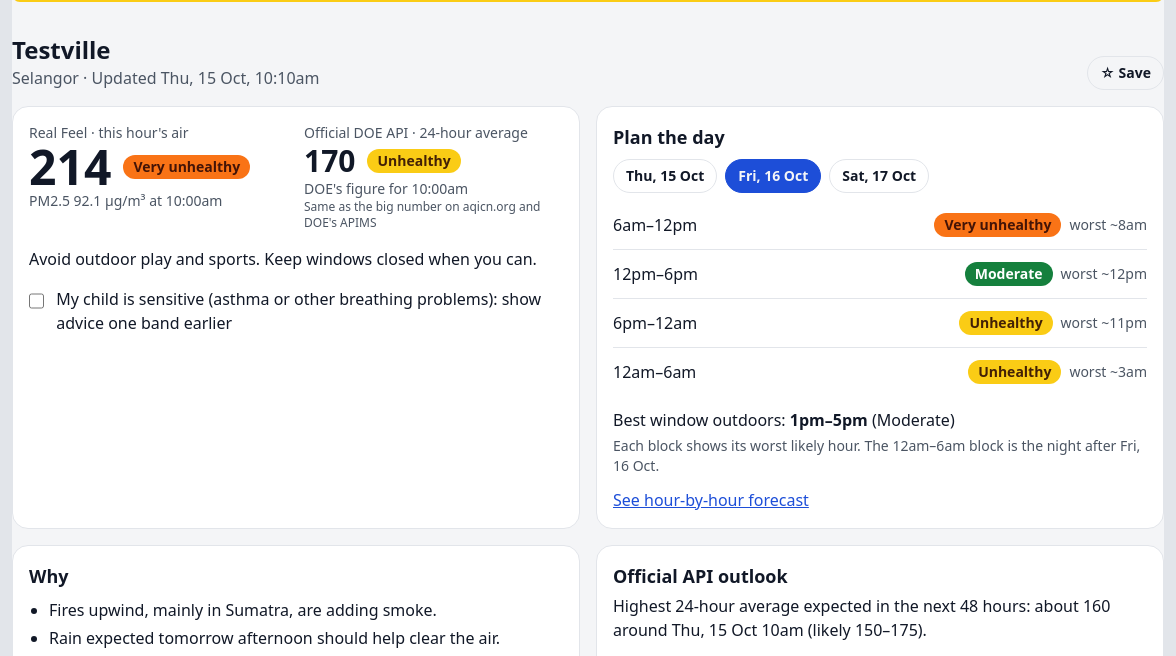
the hour-by-hour forecast opens from the plan
The width and height of the screenshot is (1176, 656).
Click the button "See hour-by-hour forecast" at x=711, y=500, box [613,488,809,512]
(page scrolled)
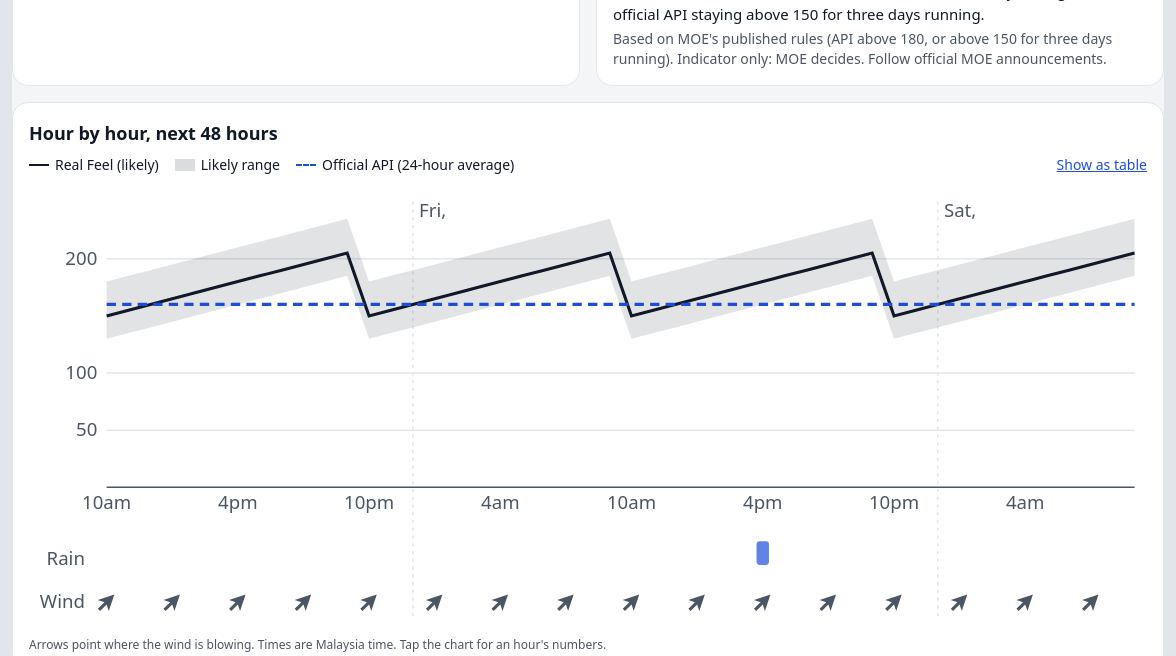
Check: the picture named "Hour-by-hour forecast chart" is shown
